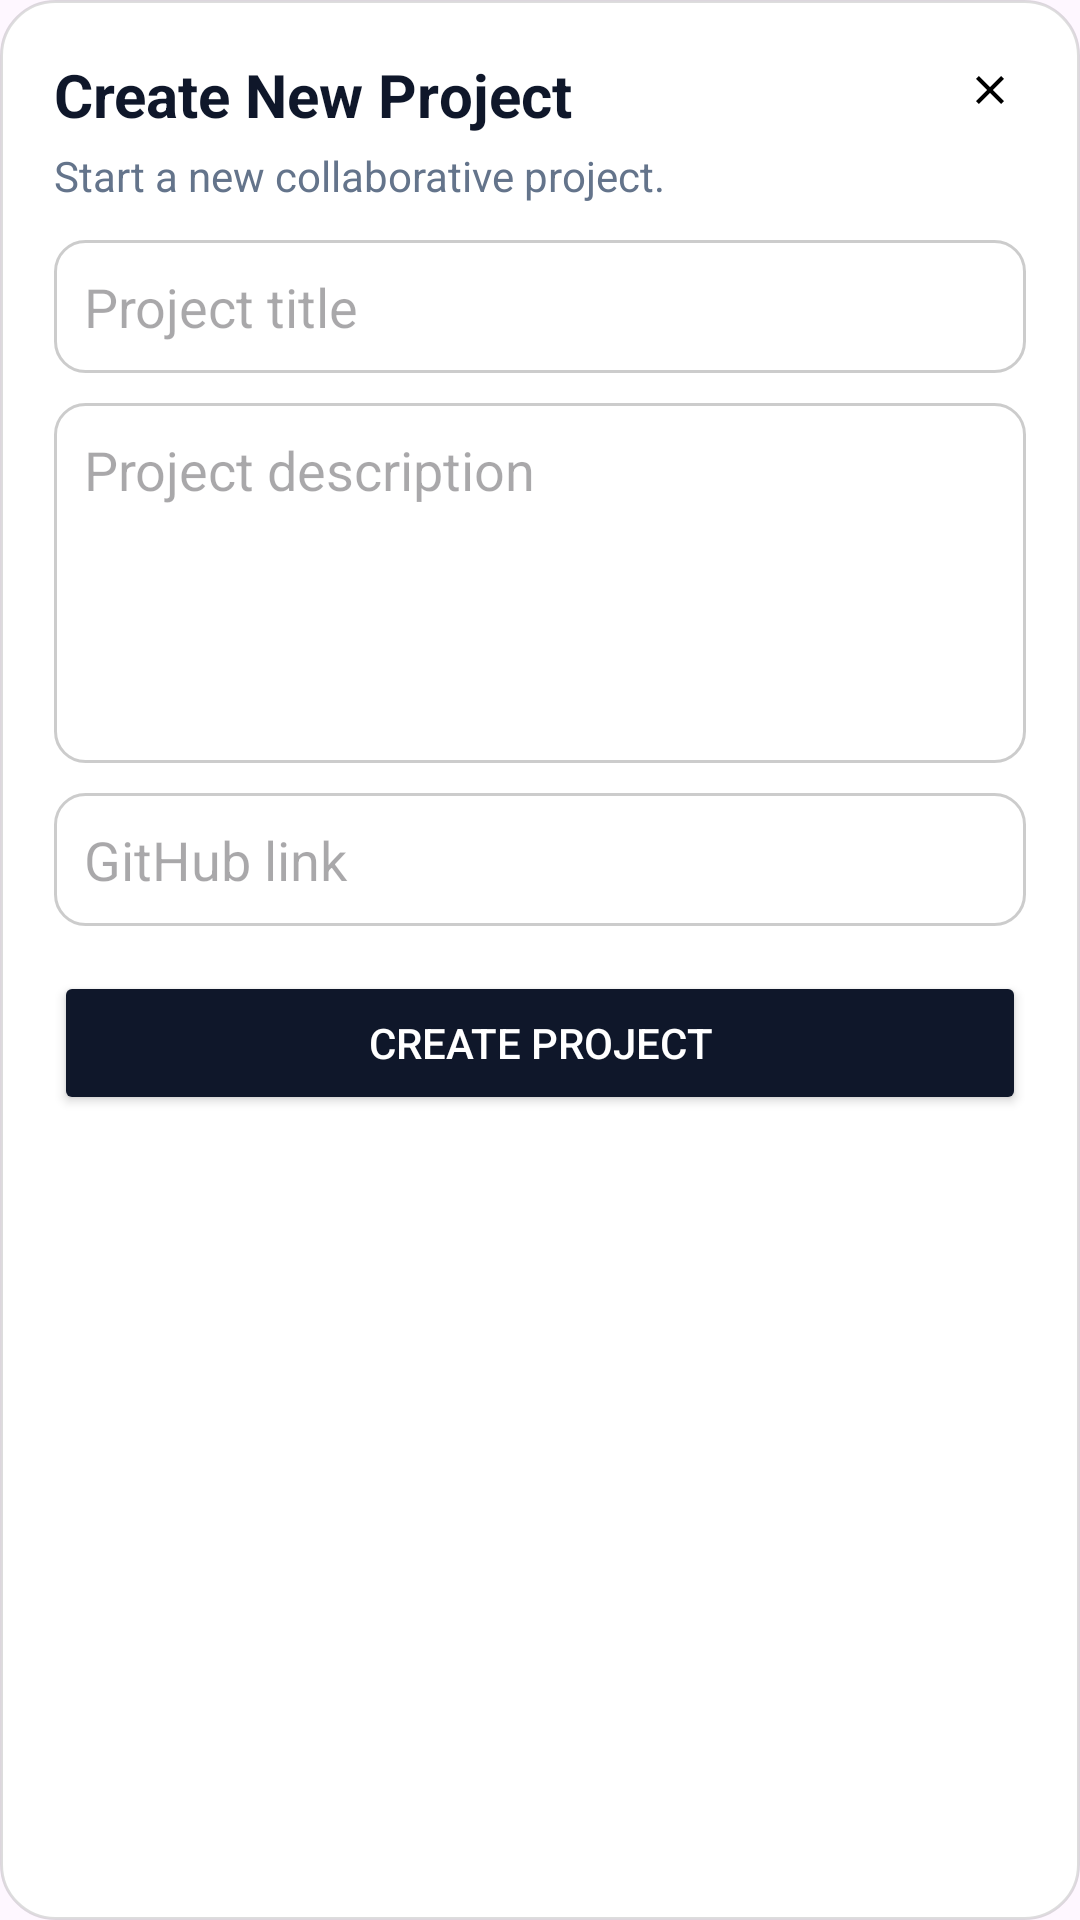

Screen size 1080 x 1920. Icon name, then its center in pixels as (x=x, y=y):
close: (x=990, y=90)
